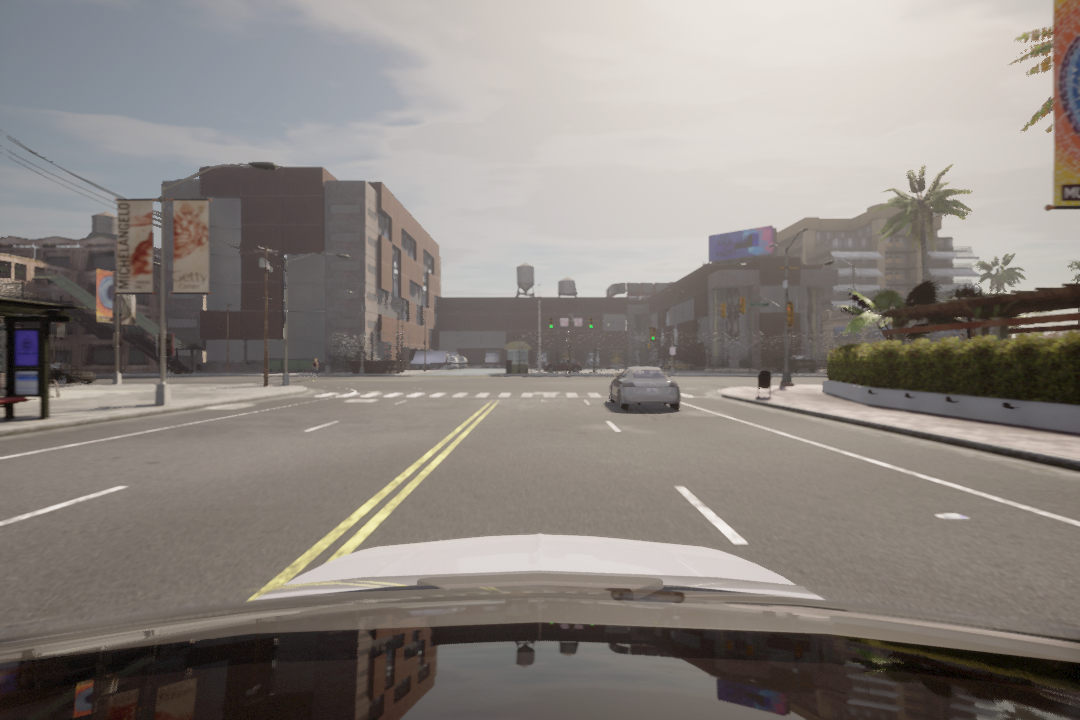TrafficLight: (649, 327, 659, 344), (547, 315, 555, 331), (588, 316, 595, 331)
walkside: (311, 387, 694, 401)
